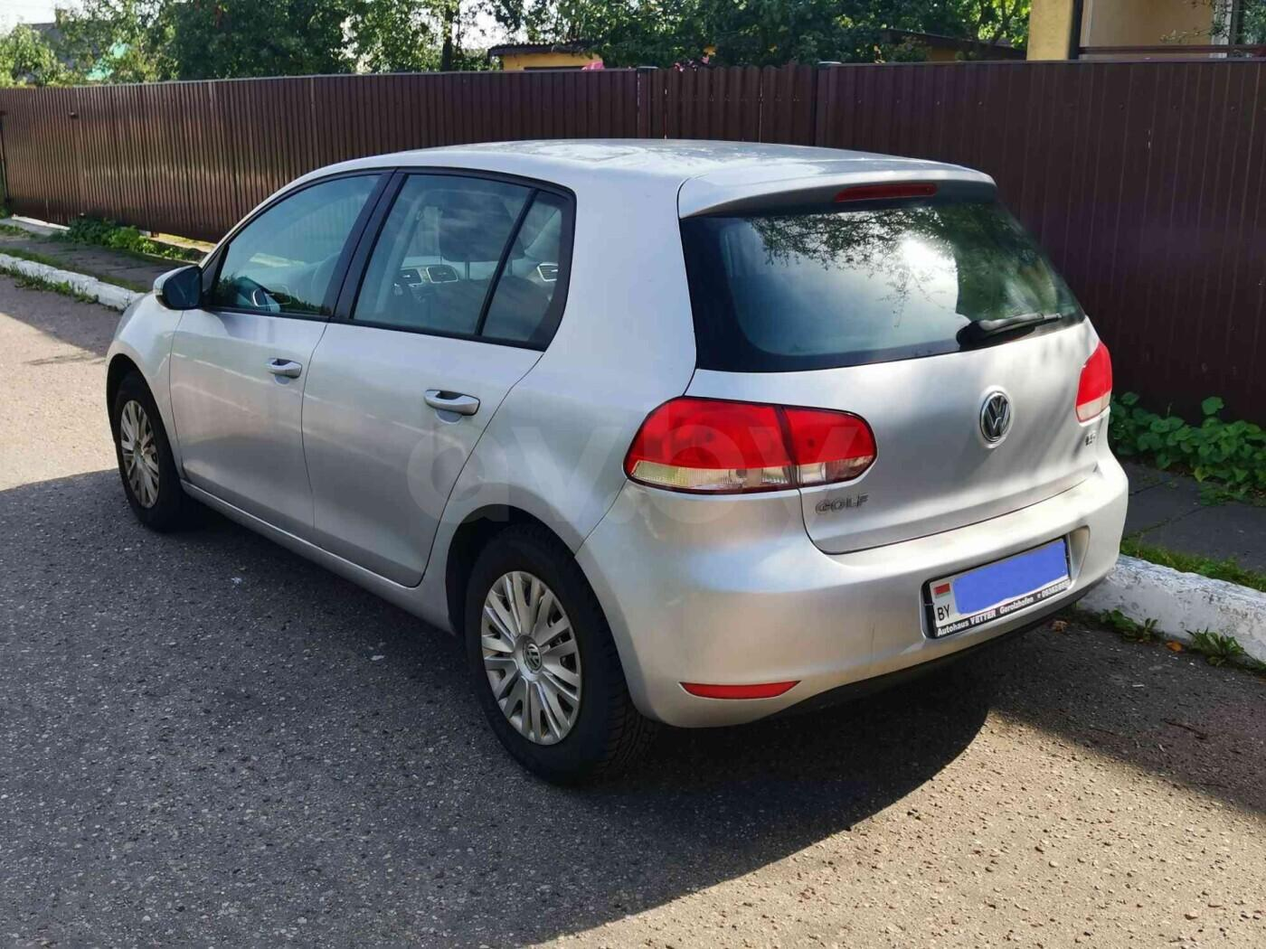Golf_2008-2013: (101, 132, 1138, 763)
